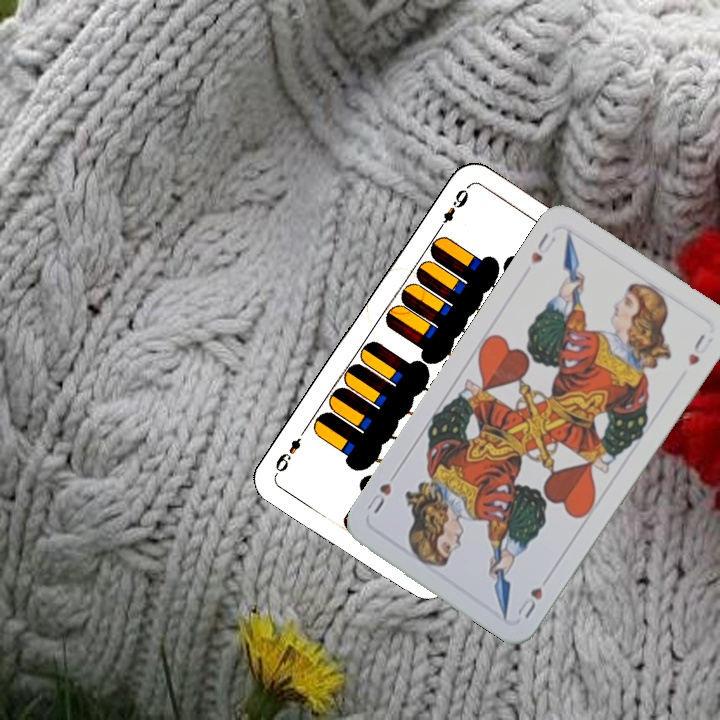E9: (432, 183, 472, 235)
HU: (513, 582, 546, 621), (526, 228, 559, 267)
